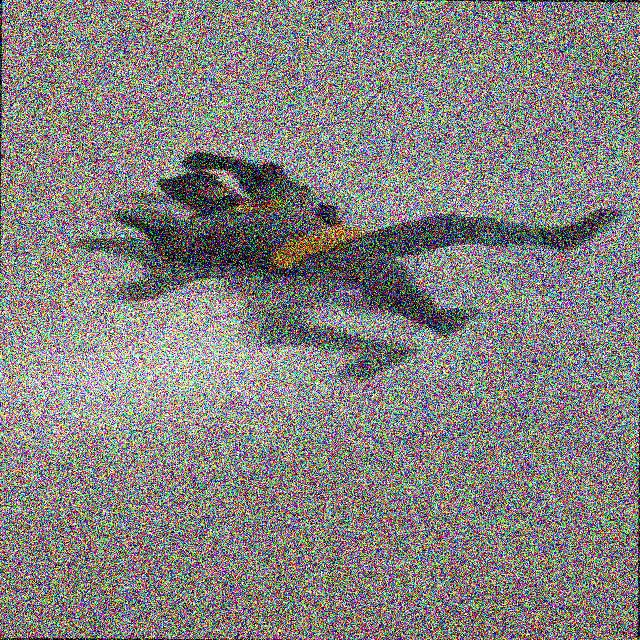Batman: (116, 152, 623, 336)
